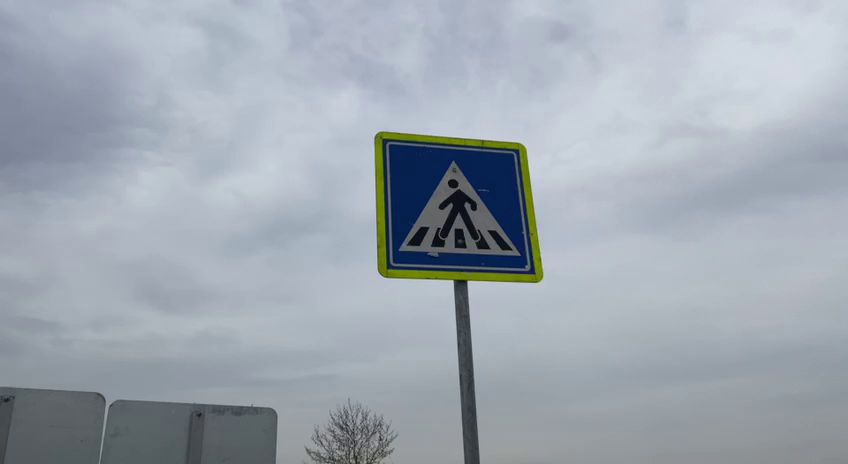pedestrianCrossing: (370, 129, 548, 285)
